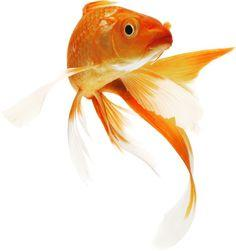goldfish: (51, 1, 211, 168)
